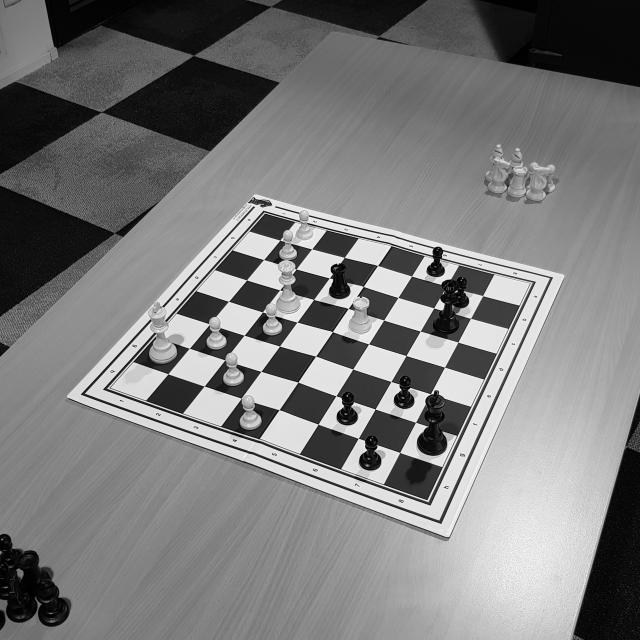chessboard: (108, 215, 534, 502)
